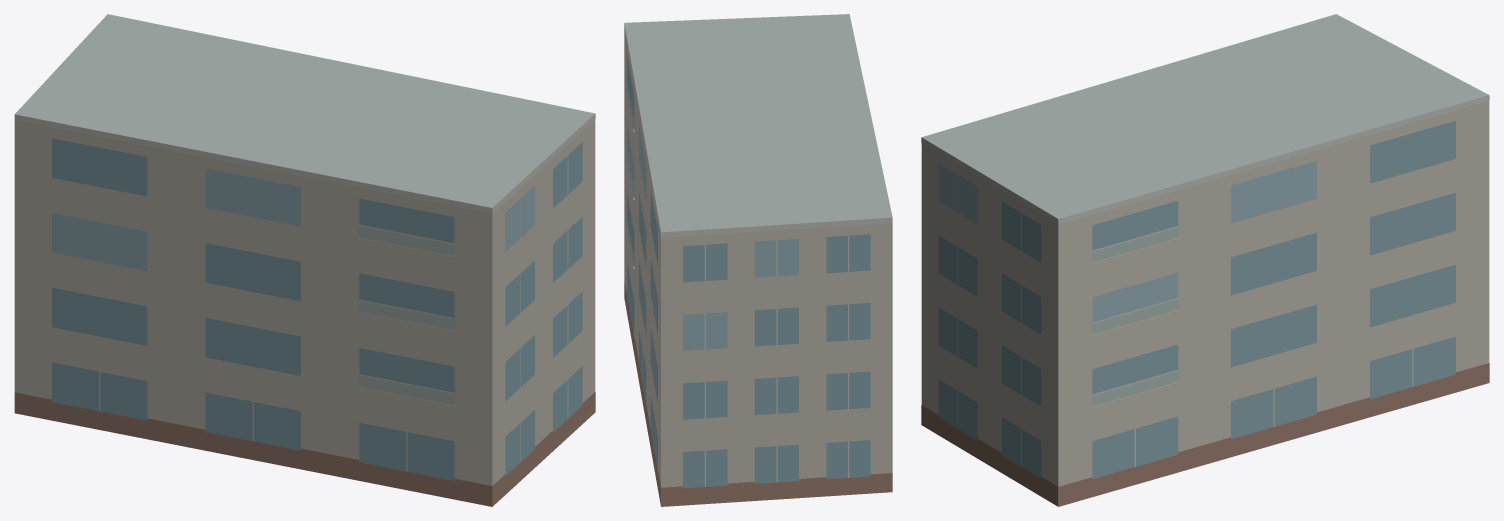
File: survey-upis-32822347.glb
3 renders of one model, left to right at view 1: azimuth 30°, elevation 25°; view 2: azimuth 150°, elevation 25°; view 3: azimuth 270°, elevation 25°, orthographic. The views are drawn at different scales.
Visible parts, largest first — view 1: survey-upis-32822347.tmp; view 2: survey-upis-32822347.tmp; view 3: survey-upis-32822347.tmp.
Boxes of the visible parts, bbox=[...] form: survey-upis-32822347.tmp: bbox=[14, 14, 595, 506]; survey-upis-32822347.tmp: bbox=[624, 14, 892, 506]; survey-upis-32822347.tmp: bbox=[921, 14, 1489, 506].
Bounding box in the file's own units: 19.27 × 12.6 × 22.54.
